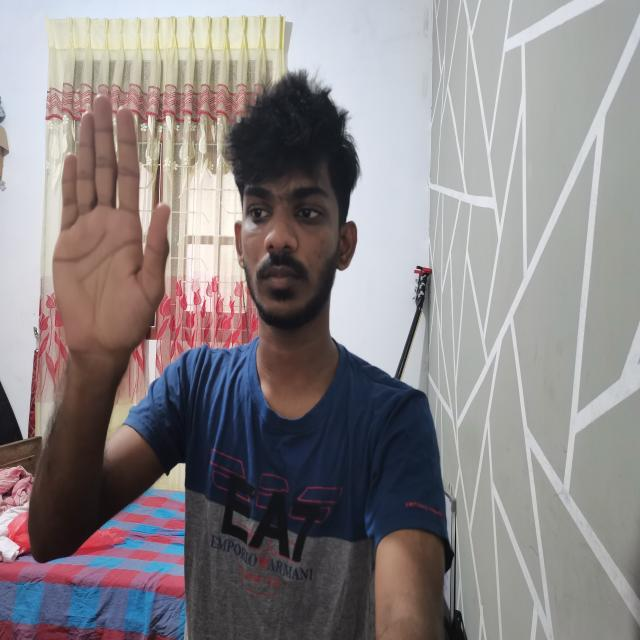Hello: (47, 85, 176, 363)
